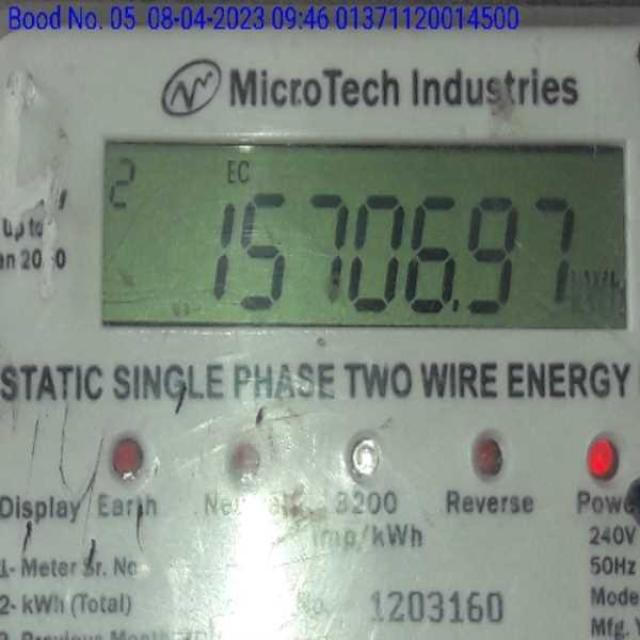0: (351, 189, 401, 317)
1: (206, 186, 238, 317)
5: (237, 186, 291, 311)
6: (410, 185, 458, 317)
7: (534, 193, 581, 305), (304, 194, 349, 308)
9: (466, 194, 524, 321)
Digital meter: (106, 147, 626, 330)
point: (449, 291, 461, 318)
